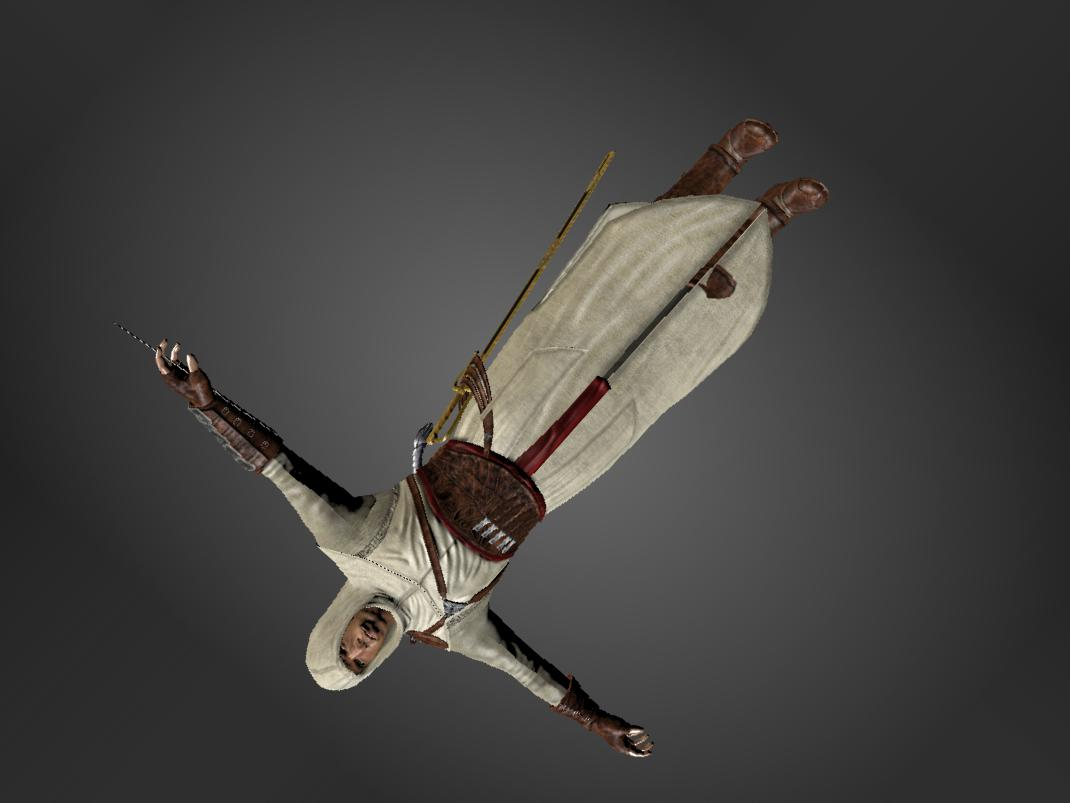clip: (702, 264, 742, 303)
